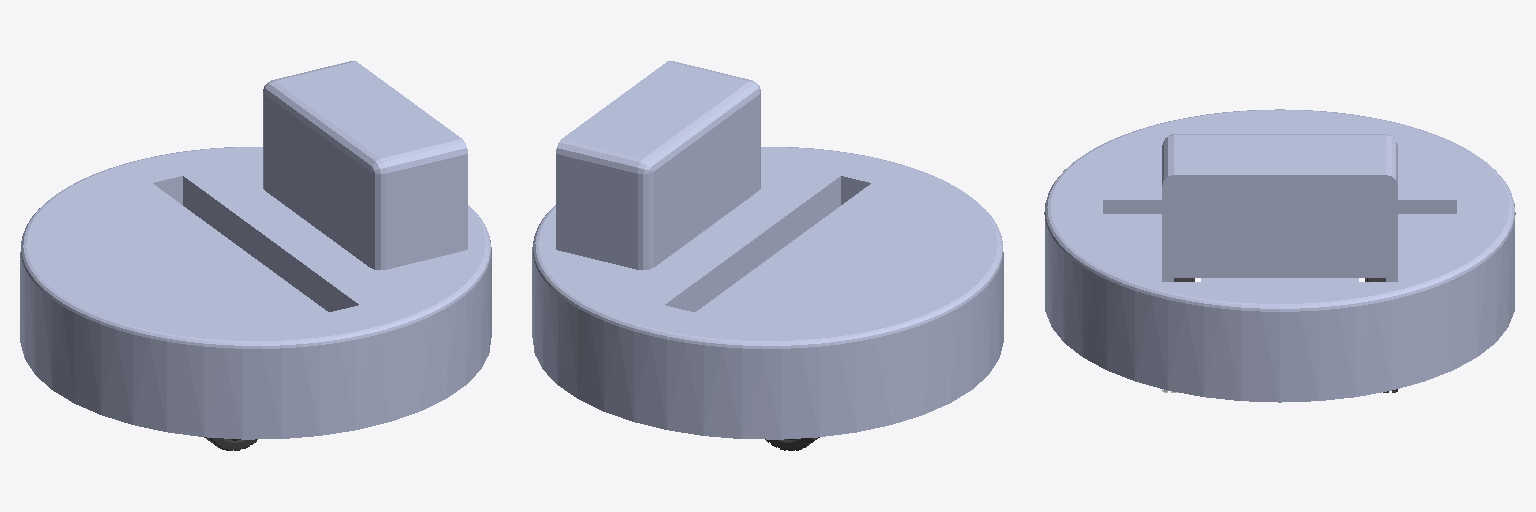
The robot description file, URDF, robot "testbot":
<?xml version="1.0" encoding="utf-8"?>
<!-- This URDF was automatically created by SolidWorks to URDF Exporter! Originally created by [author] ([email redacted]) 
     Commit Version: 1.6.0-4-g7f85cfe  Build Version: 1.6.7995.38578
     For more information, please see http://wiki.ros.org/sw_urdf_exporter -->
<robot
  name="testbot">
  <link
    name="body">
    <inertial>
      <origin
        xyz="0.008033 0 0.061122"
        rpy="0 0 0" />
      <mass
        value="3.7018" />
      <inertia
        ixx="0.051875"
        ixy="-3.0668E-18"
        ixz="-0.0039007"
        iyy="0.051099"
        iyz="1.6318E-18"
        izz="0.085386" />
    </inertial>
    <visual>
      <origin
        xyz="0 0 0"
        rpy="0 0 0" />
      <geometry>
        <mesh
          filename="package://testbot/meshes/body.STL" />
      </geometry>
      <material
        name="">
        <color
          rgba="0.79216 0.81961 0.93333 1" />
      </material>
    </visual>
    <collision>
      <origin
        xyz="0 0 0"
        rpy="0 0 0" />
      <geometry>
        <mesh
          filename="package://testbot/meshes/body.STL" />
      </geometry>
    </collision>
  </link>
  <link
    name="front_left_wheel">
    <inertial>
      <origin
        xyz="2.58248119305859E-07 0.0103100232964128 -1.21013738418885E-07"
        rpy="0 0 0" />
      <mass
        value="0.0297341392937907" />
      <inertia
        ixx="1.22910761029336E-05"
        ixy="8.10842359195753E-11"
        ixz="1.14908676285921E-10"
        iyy="2.03788335831534E-05"
        iyz="-3.82165615196521E-11"
        izz="1.22913469876392E-05" />
    </inertial>
    <visual>
      <origin
        xyz="0 0 0"
        rpy="0 0 0" />
      <geometry>
        <mesh
          filename="package://testbot/meshes/front_left_wheel.STL" />
      </geometry>
      <material
        name="">
        <color
          rgba="0.298039215686275 0.298039215686275 0.298039215686275 1" />
      </material>
    </visual>
    <collision>
      <origin
        xyz="0 0 0"
        rpy="0 0 0" />
      <geometry>
        <mesh
          filename="package://testbot/meshes/front_left_wheel.STL" />
      </geometry>
    </collision>
  </link>
  <joint
    name="front_left_wheel"
    type="continuous">
    <origin
      xyz="-0.073 0.09815 -0.014"
      rpy="0 0 -3.1416" />
    <parent
      link="body" />
    <child
      link="front_left_wheel" />
    <axis
      xyz="0 -1 0" />
    <limit
      effort="1"
      velocity="1" />
  </joint>
  <link
    name="front_right_wheel">
    <inertial>
      <origin
        xyz="-2.58248114476389E-07 0.0103100232964129 1.21013735893127E-07"
        rpy="0 0 0" />
      <mass
        value="0.0297341392937916" />
      <inertia
        ixx="1.22910761029339E-05"
        ixy="-8.10842360907973E-11"
        ixz="1.14908676207216E-10"
        iyy="2.03788335831539E-05"
        iyz="3.82165616106154E-11"
        izz="1.22913469876395E-05" />
    </inertial>
    <visual>
      <origin
        xyz="0 0 0"
        rpy="0 0 0" />
      <geometry>
        <mesh
          filename="package://testbot/meshes/front_right_wheel.STL" />
      </geometry>
      <material
        name="">
        <color
          rgba="0.298039215686275 0.298039215686275 0.298039215686275 1" />
      </material>
    </visual>
    <collision>
      <origin
        xyz="0 0 0"
        rpy="0 0 0" />
      <geometry>
        <mesh
          filename="package://testbot/meshes/front_right_wheel.STL" />
      </geometry>
    </collision>
  </link>
  <joint
    name="front_right_wheel"
    type="continuous">
    <origin
      xyz="-0.073 -0.09815 -0.014"
      rpy="0 0 0" />
    <parent
      link="body" />
    <child
      link="front_right_wheel" />
    <axis
      xyz="0 1 0" />
    <limit
      effort="1"
      velocity="1" />
  </joint>
  <link
    name="rear_left_wheel">
    <inertial>
      <origin
        xyz="-2.43694072699085E-08 -0.0103100232964135 -2.84152328666742E-07"
        rpy="0 0 0" />
      <mass
        value="0.0297341392937934" />
      <inertia
        ixx="1.22913787607802E-05"
        ixy="7.46016441292797E-12"
        ixz="-5.98966931947386E-11"
        iyy="2.0378833583155E-05"
        iyz="8.93280740814802E-11"
        izz="1.22910443297946E-05" />
    </inertial>
    <visual>
      <origin
        xyz="0 0 0"
        rpy="0 0 0" />
      <geometry>
        <mesh
          filename="package://testbot/meshes/rear_left_wheel.STL" />
      </geometry>
      <material
        name="">
        <color
          rgba="0.298039215686275 0.298039215686275 0.298039215686275 1" />
      </material>
    </visual>
    <collision>
      <origin
        xyz="0 0 0"
        rpy="0 0 0" />
      <geometry>
        <mesh
          filename="package://testbot/meshes/rear_left_wheel.STL" />
      </geometry>
    </collision>
  </link>
  <joint
    name="rear_left_wheel"
    type="continuous">
    <origin
      xyz="0.073 0.09815 -0.014"
      rpy="0 0 0" />
    <parent
      link="body" />
    <child
      link="rear_left_wheel" />
    <axis
      xyz="0 -1 0" />
    <limit
      effort="1"
      velocity="1" />
  </joint>
  <link
    name="rear_right_wheel">
    <inertial>
      <origin
        xyz="0 0 0"
        rpy="0 0 0" />
      <mass
        value="0" />
      <inertia
        ixx="0"
        ixy="0"
        ixz="0"
        iyy="0"
        iyz="0"
        izz="0" />
    </inertial>
    <visual>
      <origin
        xyz="0 0 0"
        rpy="0 0 0" />
      <geometry>
        <mesh
          filename="package://testbot/meshes/rear_right_wheel.STL" />
      </geometry>
      <material
        name="">
        <color
          rgba="1 1 1 1" />
      </material>
    </visual>
    <collision>
      <origin
        xyz="0 0 0"
        rpy="0 0 0" />
      <geometry>
        <mesh
          filename="package://testbot/meshes/rear_right_wheel.STL" />
      </geometry>
    </collision>
  </link>
  <joint
    name="rear_right_wheel"
    type="continuous">
    <origin
      xyz="0.073 -0.09815 -0.014"
      rpy="0 0 0" />
    <parent
      link="body" />
    <child
      link="rear_right_wheel" />
    <axis
      xyz="0 -1 0" />
    <limit
      effort="1"
      velocity="1" />
  </joint>
</robot>

--- Facts derived from the render (not from the file) ---
The picture shows the robot from 3 angles, left to right: view 1: azimuth 30°, elevation 25°; view 2: azimuth 150°, elevation 25°; view 3: azimuth 270°, elevation 25°; orthographic projection.
Robot: testbot — 5 links, 4 joints (4 continuous); root link body; default pose: every joint at zero.
Visible links, largest first — view 1: body; view 2: body; view 3: body.
Link boxes in pixels (x1=…): body: x1=20, y1=61, x2=491, y2=439; body: x1=532, y1=61, x2=1003, y2=439; body: x1=1044, y1=109, x2=1515, y2=402.
Size in the robot's own frame: 0.4 by 0.4 by 0.2365 metres.
5 mesh visuals loaded from 5 distinct referenced files (5 binary STL).